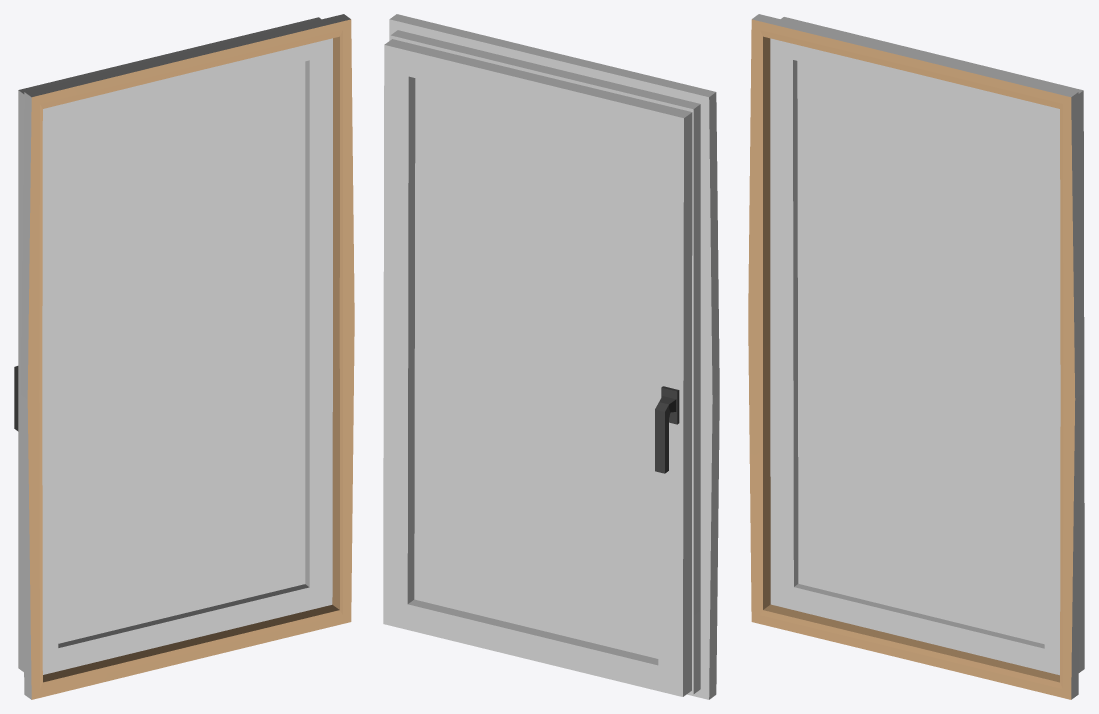
The model's file is Window 16.fbx.
The picture shows the model from 3 angles, left to right: view 1: azimuth 30°, elevation 25°; view 2: azimuth 150°, elevation 25°; view 3: azimuth 330°, elevation 25°; orthographic projection.
Parts seen in each view (by area): view 1: Door 1; view 2: Door 1; view 3: Door 1.
Part boxes in pixels (box(x1,y1,x2,y2)): Door 1: box(14, 14, 354, 699); Door 1: box(383, 14, 719, 699); Door 1: box(748, 14, 1084, 699).
Size of the model in its own units: 0.2157 by 2.08 by 1.18.
